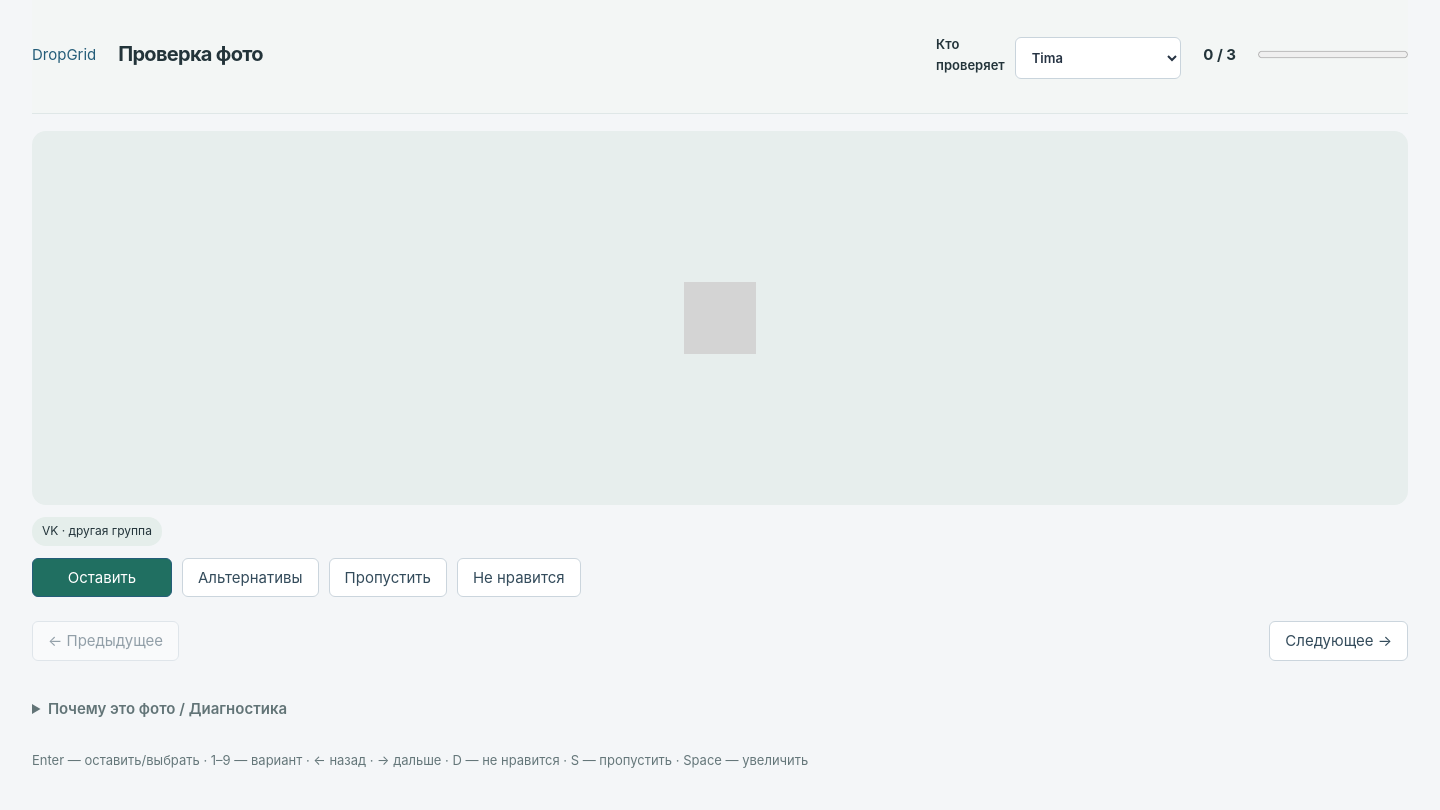
Scenario: shows regional context and provenance without changing review choices
This screenshot has width=1440, height=810.
(page scrolled)
Click the heading "Почему это фото / Диагностика": (168, 708) [48,698,287,718]
(page scrolled)
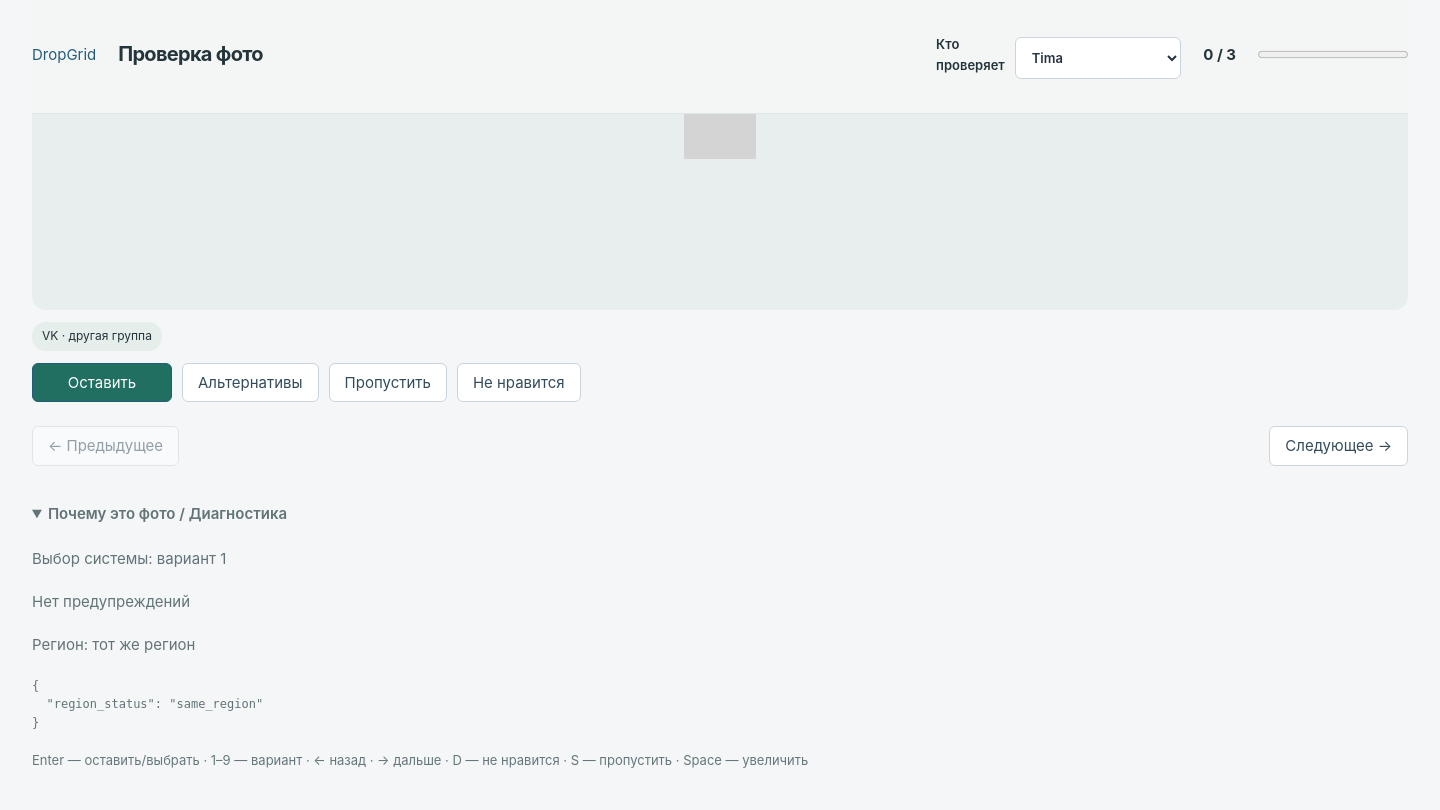
Now the text "Регион: тот же регион" is shown, box [32,635,195,654]
